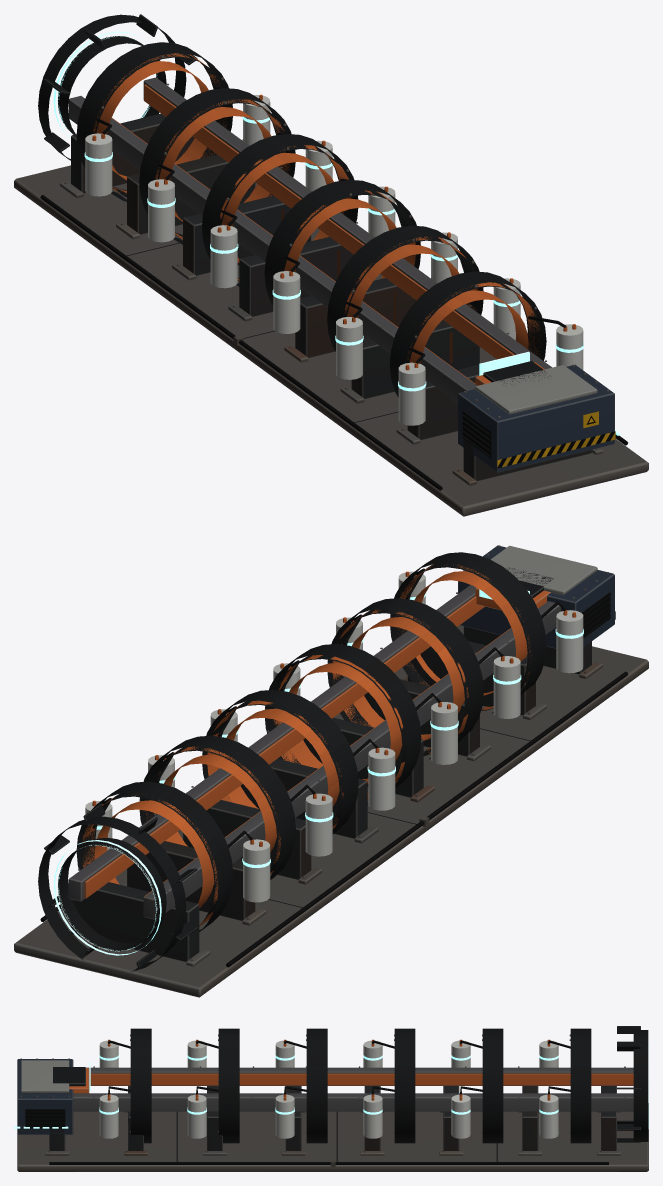
Rendered from concept_rail_gun.glb.
3 views of the same model, one above another, from view 1: azimuth 30°, elevation 25°; view 2: azimuth 150°, elevation 25°; view 3: azimuth 270°, elevation 25° (orthographic). The views are drawn at different scales.
Parts seen in each view (by area): view 1: Frame, Sled; view 2: Frame, Sled; view 3: Frame, Sled.
Boxes of the visible parts, <box> form: Frame: <box>14,14,648,516</box>; Sled: <box>475,351,551,385</box>; Frame: <box>14,545,648,997</box>; Sled: <box>475,567,553,610</box>; Frame: <box>17,1026,648,1171</box>; Sled: <box>53,1062,90,1093</box>.
Size of the model in its own units: 1.94 by 1.47 by 7.94.
